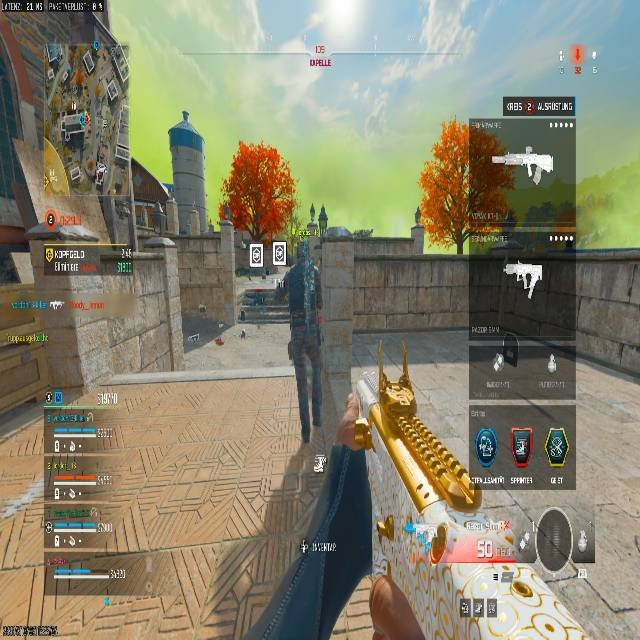head: (534, 508, 589, 570)
